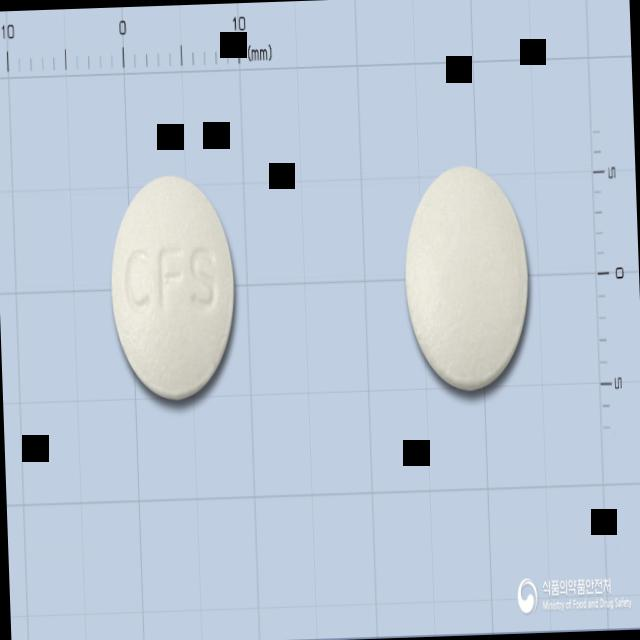Azabio: (110, 170, 240, 404), (402, 163, 533, 395)
